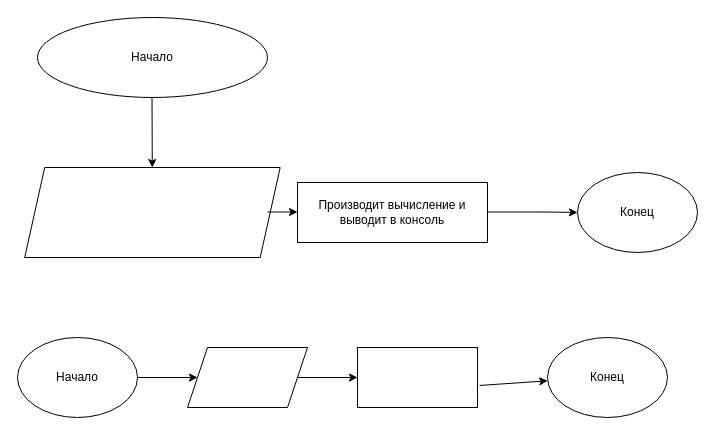
Image size: 715x435. Some labels were removed from this diagram. Here are the shapes that lost their labels. From the top down, the centre of each, then its label:
At pixel 152 212: "Пользователь вводит температуру в цельсиях".
At pixel 247 377: "Пользователь вводит имя".
At pixel 417 377: "Присваивает другой переменной и выводит в консоль".
